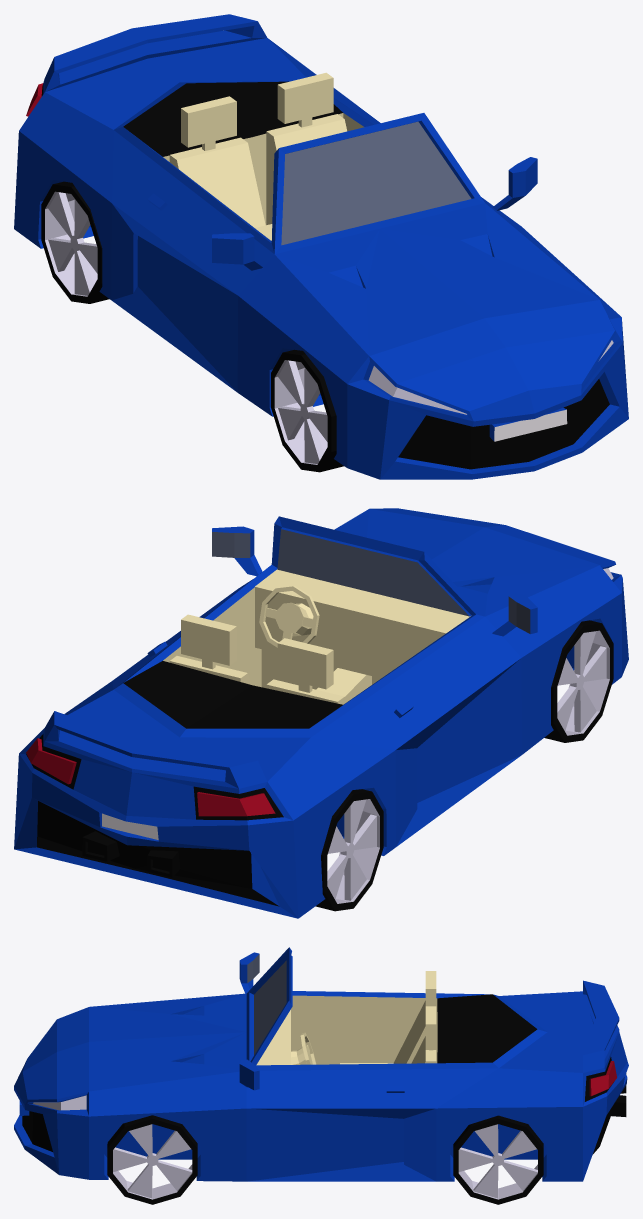
File: Roadster.glb
3 views of the same model, one above another, from view 1: azimuth 30°, elevation 25°; view 2: azimuth 150°, elevation 25°; view 3: azimuth 270°, elevation 25° (orthographic). The views are drawn at different scales.
Parts seen in each view (by area): view 1: Roadster; view 2: Roadster; view 3: Roadster.
Part boxes in pixels (x1=…): Roadster: x1=14, y1=14, x2=628, y2=479; Roadster: x1=14, y1=508, x2=628, y2=918; Roadster: x1=14, y1=947, x2=628, y2=1204.
Size of the model in its own units: 0.5773 by 0.4038 by 1.26.
